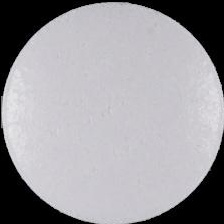42549-546: (0, 0, 224, 224)
